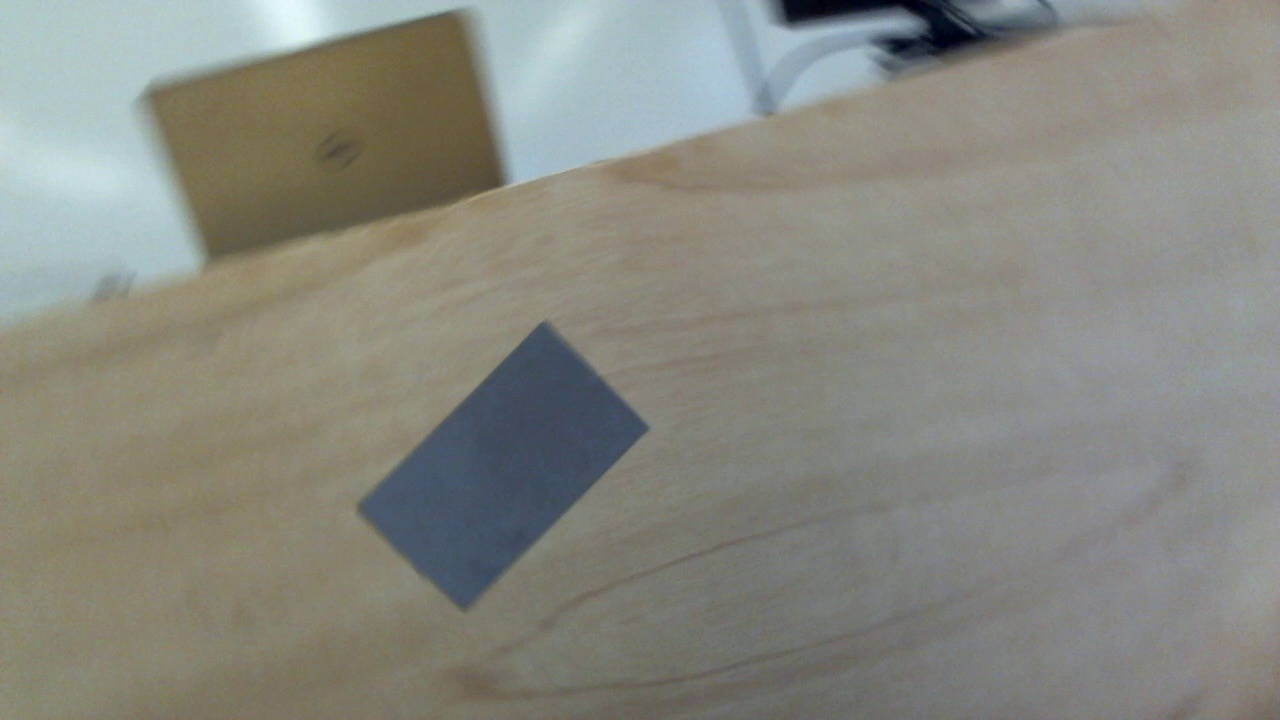Tape: (357, 321, 651, 616)
